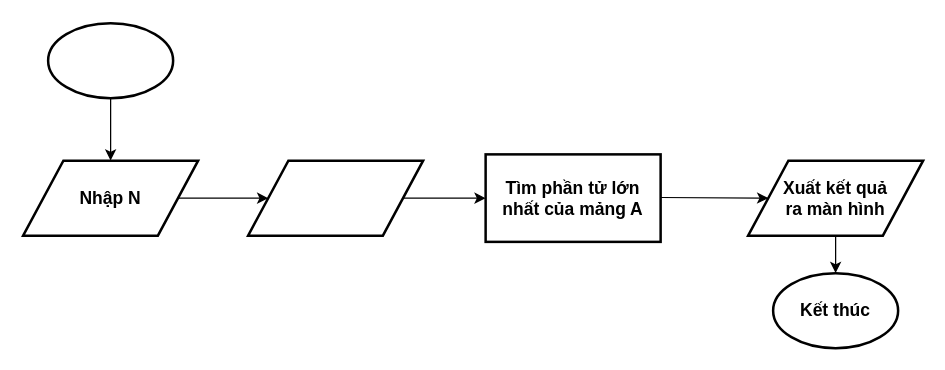
Image size: 945x370. Some labels were removed from this diagram. Each missing label, with the box of its shape:
Bắt đầu: (46, 21, 174, 99)
Nhập mảng A: (246, 159, 424, 236)
